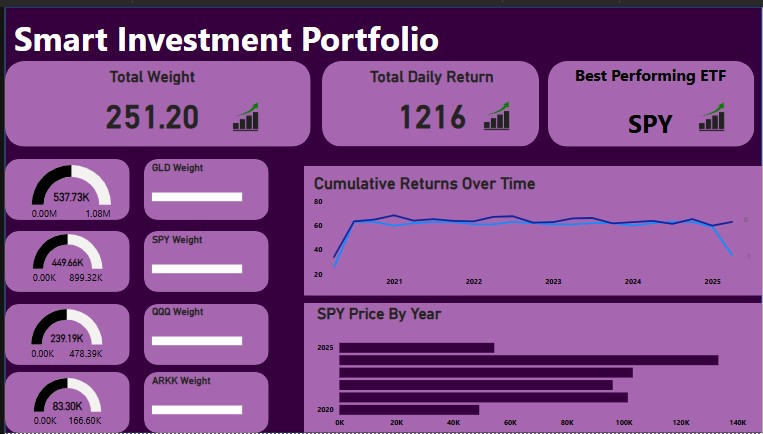

What the dashboard file says about the page in this screenshot:
{"tool":"powerbi","page":{"name":"Page 1","canvas":[1280,720],"ordinal":0},"visuals":[{"type":"shape","box":[0,0,1280,720.8],"z":0},{"type":"lineChart","fields":{"Category":["Table1.Date.Variation.Date Hierarchy.Year","Table1.Date.Variation.Date Hierarchy.Quarter","Table1.Date.Variation.Date Hierarchy.Month","Table1.Date.Variation.Date Hierarchy.Day"],"Y2":["Sum(Table1.ARKK Cumulative Return)"],"Y":["Sum(Table1.GLD Cumulative Return)"]},"box":[517.4,305.7,260.4,181.4],"z":1000},{"type":"shape","box":[917.9,90.9,348.6,144.8],"z":2000},{"type":"shape","box":[535.6,90.9,367.2,144.8],"z":3000},{"type":"shape","box":[0,90.9,517.1,144.8],"z":4000},{"type":"shape","box":[0,257.7,210.5,102.7],"z":5000},{"type":"shape","box":[0,501.9,210.5,102.7],"z":6000},{"type":"shape","box":[0,617.3,210.5,102.7],"z":7000},{"type":"shape","box":[0,378.9,210.5,102.7],"z":8000},{"type":"shape","box":[235.8,257.7,210.5,102.7],"z":9000},{"type":"shape","box":[235.8,501.9,210.5,102.7],"z":10000},{"type":"shape","box":[235.8,617.3,210.5,102.7],"z":11000},{"type":"shape","box":[235.8,378.9,210.5,102.7],"z":12000},{"type":"shape","box":[505.3,501.1,774.7,218.9],"z":13000},{"type":"shape","box":[505.3,269.5,774.7,218.9],"z":14000},{"type":"textbox","box":[10,10,737.7,90.9],"z":15000},{"type":"card","title":"Total Daily Return ","fields":{"Values":["Count(Table1.SPY Price Daily Returns)"]},"box":[551,100.8,341,122.6],"z":16000},{"type":"card","title":"Total Weight","fields":{"Values":["Sum(Table1.SPY_Weight)"]},"box":[52.1,100.8,393.1,122.6],"z":17000},{"type":"textbox","box":[928.9,90.7,325.9,144.5],"z":18000},{"type":"lineChart","title":"Cumulative Returns Over Time","fields":{"Category":["Table1.Date.Variation.Date Hierarchy.Year","Table1.Date.Variation.Date Hierarchy.Quarter"],"Y":["CountNonNull(Table1.SPY Cumulative Return)"],"Y2":["Sum(Table1.GLD Cumulative Return)"]},"box":[517.4,282.4,749.1,199.5],"z":19000},{"type":"barChart","title":"SPY Price By Year","fields":{"Category":["Table1.Date.Variation.Date Hierarchy.Year"],"Y":["Sum(Table1.SPY Price)"]},"box":[522.4,502.3,737.4,218.4],"z":20000},{"type":"barChart","title":" ARKK Weight","fields":{"Y":["Sum(Table1.ARKK_Weight)"]},"box":[243.6,621.5,193.2,92.4],"z":21000},{"type":"barChart","title":" QQQ Weight","fields":{"Y":["Sum(Table1.QQQ_Weight)"]},"box":[243.6,505.6,193.2,92.4],"z":22000},{"type":"barChart","title":" SPY Weight","fields":{"Y":["Sum(Table1.SPY_Weight)"]},"box":[243.6,383,193.2,92.4],"z":23000},{"type":"barChart","title":"GLD Weight","fields":{"Y":["Sum(Table1.GLD_Weight)"]},"box":[243.6,262,193.2,92.4],"z":24000},{"type":"gauge","fields":{"Y":["Sum(Table1.GLD Price)"]},"box":[11.8,505.6,186,101.5],"z":25000},{"type":"gauge","fields":{"Y":["Sum(Table1.QQQ  Price)"]},"box":[3.4,378.8,204.6,99.8],"z":26000},{"type":"gauge","fields":{"Y":["Sum(Table1.SPY Price)"]},"box":[23.7,262.1,177.5,108.2],"z":27000},{"type":"gauge","fields":{"Y":["Sum(Table1.ARKK Price)"]},"box":[10.1,622.2,191.1,98.1],"z":28000},{"type":"image","box":[766,133.6,125.1,101.5],"z":28001},{"type":"image","box":[1129.5,135.3,125.1,101.5],"z":28002},{"type":"image","box":[341.6,135.3,125.1,101.5],"z":28003}]}

Visuals, with their boxes in screenshot pixels (x1, y1, x2, y2), scaled from the page's 1280x720 canvas onto the 763x434 screenshot:
shape: locate(0, 0, 762, 433)
lineChart - Table1.Date.Variation.Date Hierarchy.Year x Table1.Date.Variation.Date Hierarchy.Quarter: locate(308, 184, 464, 294)
shape: locate(547, 55, 755, 142)
shape: locate(319, 55, 538, 142)
shape: locate(0, 55, 308, 142)
shape: locate(0, 155, 125, 217)
shape: locate(0, 303, 125, 364)
shape: locate(0, 372, 125, 433)
shape: locate(0, 228, 125, 290)
shape: locate(141, 155, 266, 217)
shape: locate(141, 303, 266, 364)
shape: locate(141, 372, 266, 433)
shape: locate(141, 228, 266, 290)
shape: locate(301, 302, 762, 433)
shape: locate(301, 162, 762, 294)
textbox: locate(6, 6, 446, 61)
"Total Daily Return " card: locate(328, 61, 532, 135)
"Total Weight" card: locate(31, 61, 265, 135)
textbox: locate(554, 55, 748, 142)
"Cumulative Returns Over Time" lineChart: locate(308, 170, 755, 290)
"SPY Price By Year" barChart: locate(311, 303, 751, 433)
" ARKK Weight" barChart: locate(145, 375, 260, 430)
" QQQ Weight" barChart: locate(145, 305, 260, 360)
" SPY Weight" barChart: locate(145, 231, 260, 287)
"GLD Weight" barChart: locate(145, 158, 260, 214)
gauge - Sum(Table1.GLD Price): locate(7, 305, 118, 366)
gauge - Sum(Table1.QQQ  Price): locate(2, 228, 124, 288)
gauge - Sum(Table1.SPY Price): locate(14, 158, 120, 223)
gauge - Sum(Table1.ARKK Price): locate(6, 375, 120, 433)
image: locate(457, 81, 531, 142)
image: locate(673, 82, 748, 143)
image: locate(204, 82, 278, 143)
